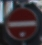No entry: (5, 6, 37, 39)
